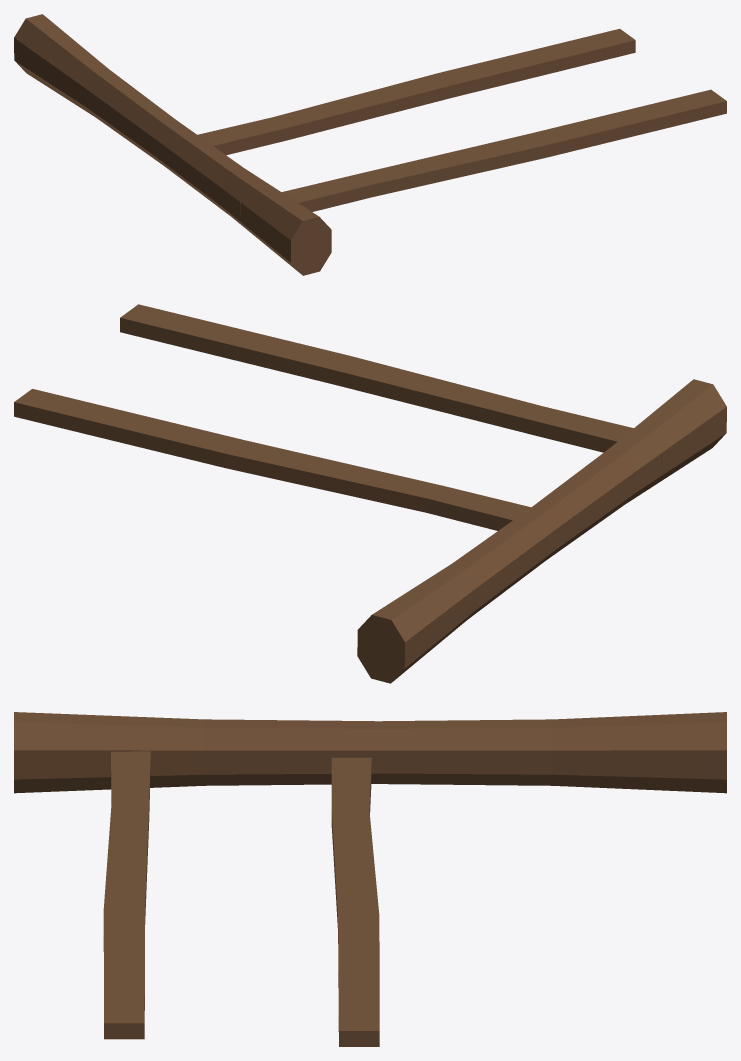
Rendered from Barrier_03_Left.fbx.
3 views of the same model, one above another, from view 1: azimuth 30°, elevation 25°; view 2: azimuth 150°, elevation 25°; view 3: azimuth 270°, elevation 25° (orthographic). The views are drawn at different scales.
Visible parts, largest first — view 1: Barriere_3 bord gauche; view 2: Barriere_3 bord gauche; view 3: Barriere_3 bord gauche.
Part boxes in pixels (box(x1,y1,x2,y2)): Barriere_3 bord gauche: box(14, 14, 726, 275); Barriere_3 bord gauche: box(14, 304, 726, 683); Barriere_3 bord gauche: box(14, 712, 726, 1046).
Size of the model in its own units: 98.36 by 11.02 by 100.
